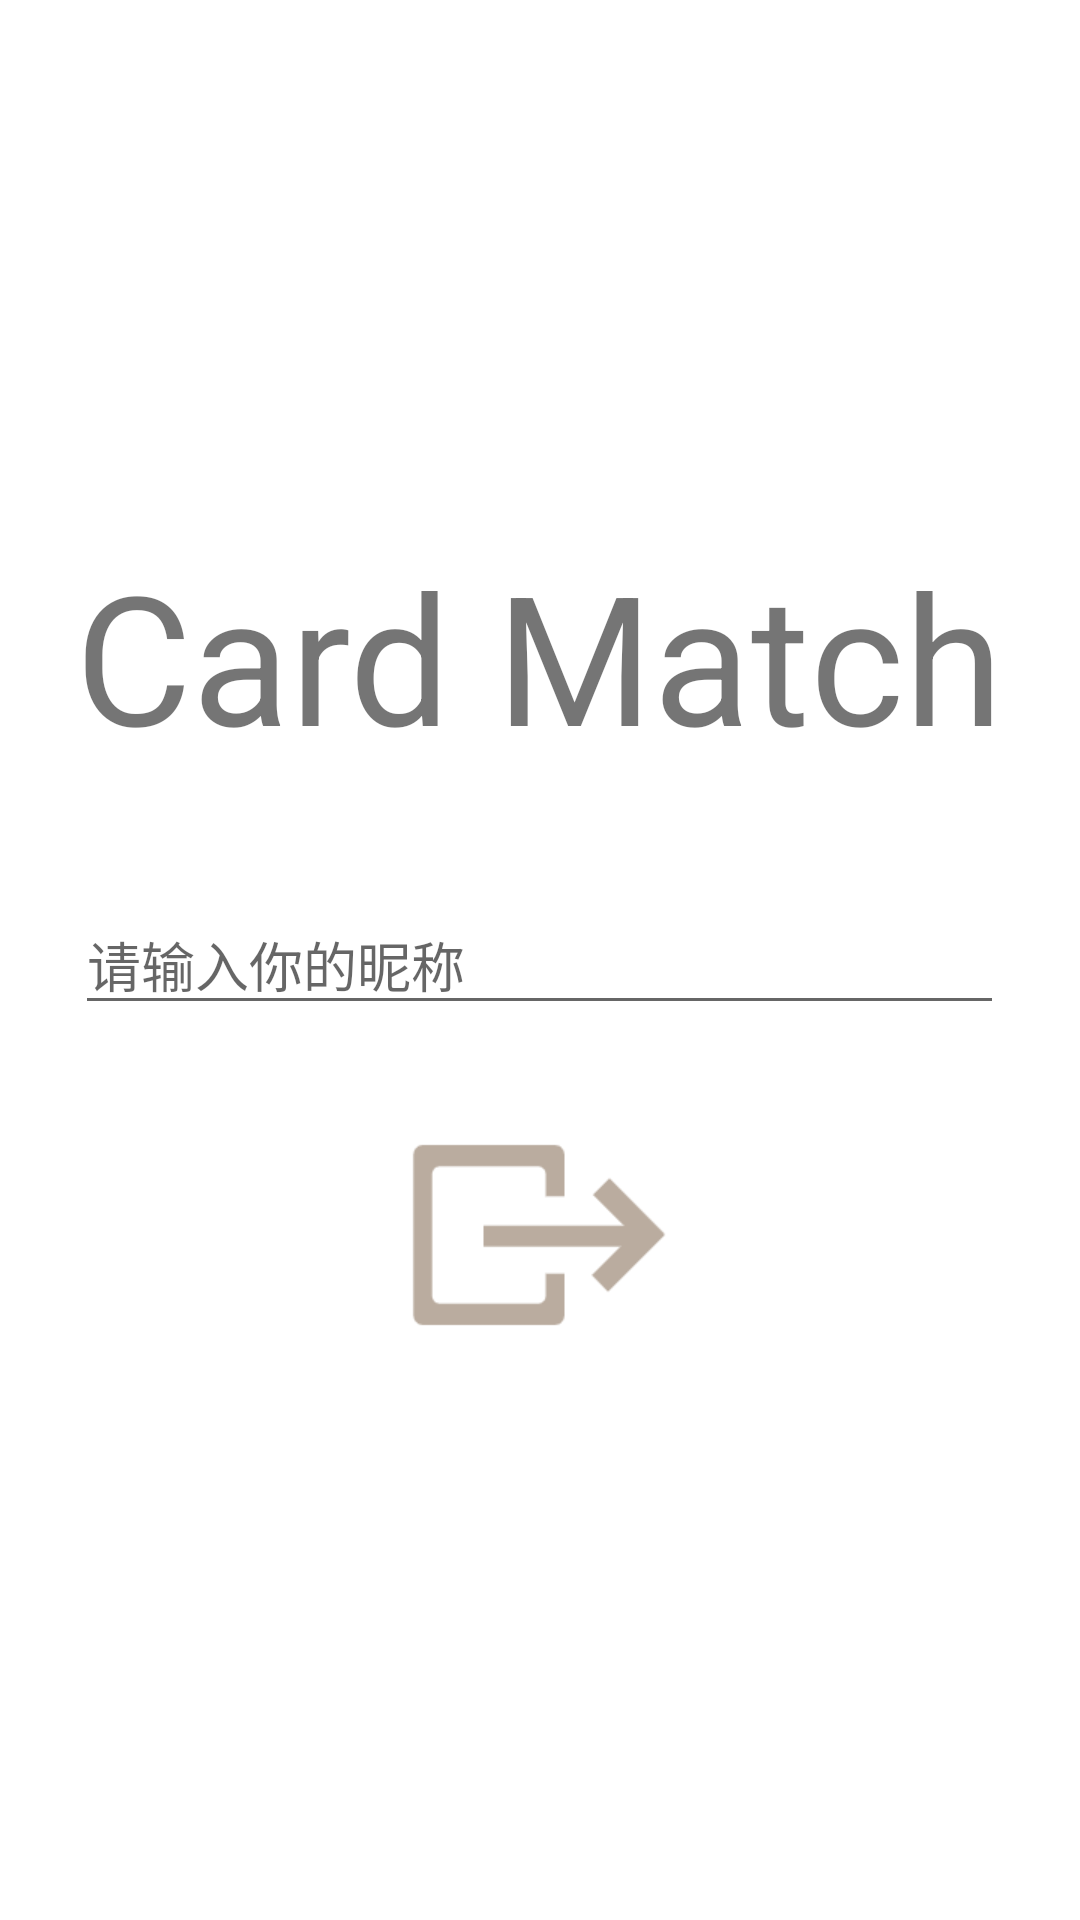

Screen size 1080 × 1920. Icon name, then its center in pixels as point (x, y):
exit: point (539, 1235)
